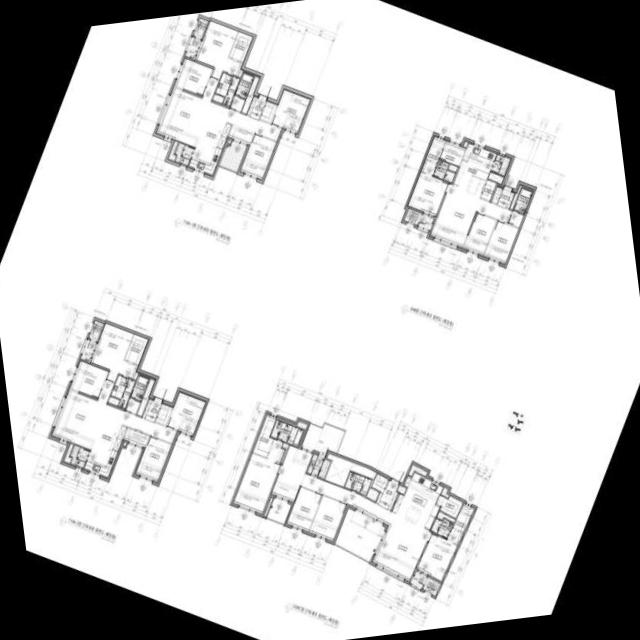background: (0, 0, 640, 640)
space_balconi: (334, 507, 384, 561), (301, 424, 344, 454), (218, 142, 245, 171), (266, 498, 290, 523), (306, 453, 329, 478), (173, 142, 193, 165), (69, 444, 88, 467), (490, 154, 509, 175), (184, 36, 200, 58), (80, 339, 95, 361), (409, 571, 426, 588), (417, 213, 433, 230)
space_bedroom: (232, 439, 284, 513), (90, 323, 137, 382), (194, 20, 241, 79), (416, 532, 456, 581), (407, 172, 447, 216), (270, 89, 310, 133), (166, 391, 205, 435), (308, 495, 346, 540), (239, 133, 276, 179), (135, 436, 171, 481), (286, 487, 321, 531), (483, 220, 517, 263), (69, 360, 107, 398), (174, 58, 211, 95), (463, 212, 495, 254)
space_dressroom: (446, 503, 473, 544), (252, 414, 275, 457), (420, 136, 444, 175), (228, 31, 252, 62), (124, 334, 147, 364)
space_front: (375, 480, 397, 509), (141, 398, 161, 422), (246, 96, 265, 120), (496, 189, 513, 208)
space_kitchen: (391, 472, 442, 530), (83, 418, 126, 477), (188, 115, 230, 174), (452, 143, 495, 198)
space_living_room: (270, 445, 430, 580), (156, 77, 281, 147), (51, 380, 176, 449), (429, 183, 511, 247)
space_other: (324, 453, 375, 486), (240, 76, 259, 113), (136, 379, 154, 416), (438, 141, 465, 165), (436, 495, 462, 518), (122, 427, 148, 447), (227, 124, 253, 144), (154, 403, 172, 425), (259, 101, 276, 122), (370, 473, 387, 492), (480, 179, 495, 200), (509, 185, 520, 209), (507, 211, 523, 227), (124, 398, 139, 414), (229, 95, 244, 111), (166, 140, 177, 161), (407, 464, 426, 476), (490, 186, 501, 203), (365, 487, 378, 501), (436, 512, 454, 522), (63, 443, 72, 462), (263, 497, 272, 516), (487, 172, 502, 183), (280, 442, 288, 462), (396, 485, 405, 494), (296, 421, 306, 429), (440, 487, 448, 497), (447, 164, 457, 171), (237, 69, 242, 77), (133, 371, 137, 379), (462, 141, 467, 147), (227, 139, 230, 143), (122, 442, 125, 446)
space_outdoor_room: (421, 576, 440, 595), (87, 320, 103, 341), (192, 17, 207, 38), (403, 208, 421, 225)
space_toilet: (107, 375, 134, 408), (211, 72, 238, 105), (270, 420, 302, 446), (343, 471, 370, 494), (512, 187, 531, 213), (129, 374, 148, 400), (234, 72, 253, 98), (432, 160, 454, 182), (430, 518, 452, 538)
